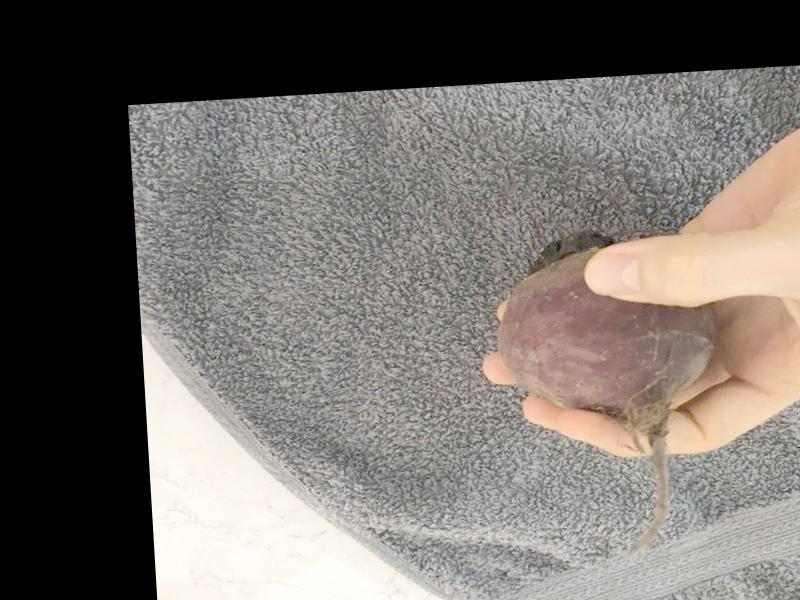Beet: (492, 224, 729, 563)
